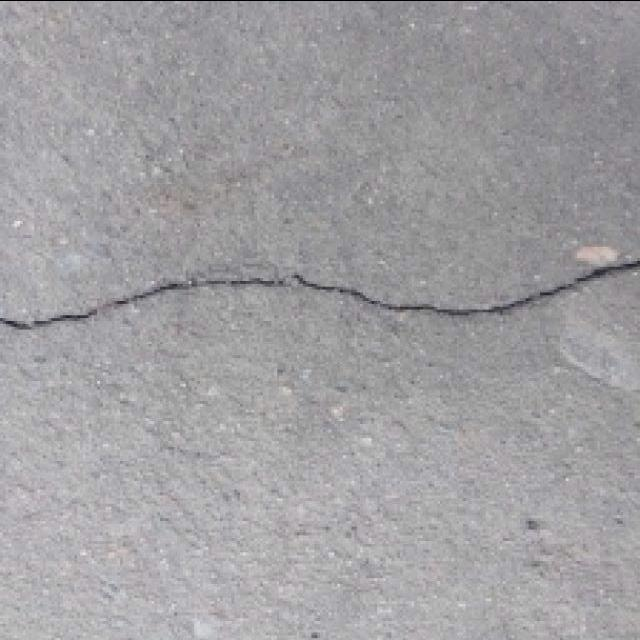SurfaceCrack: (0, 230, 638, 364)
